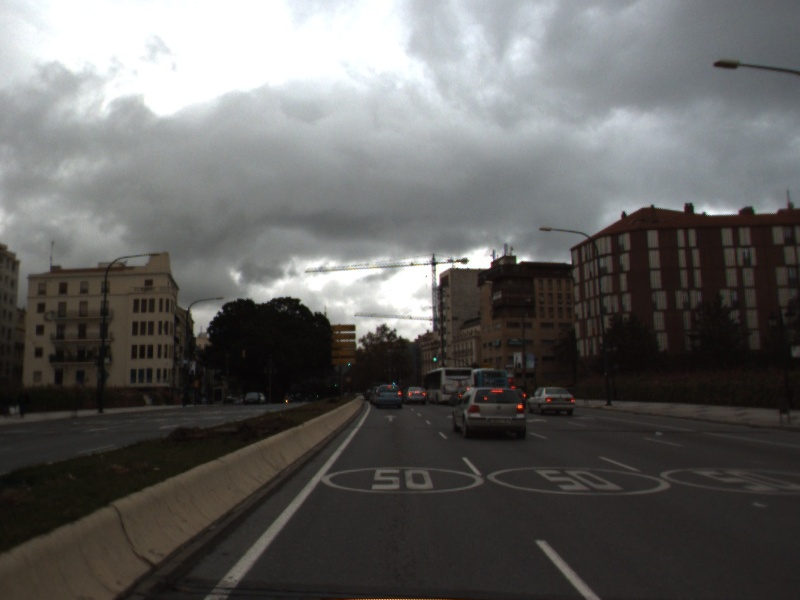STRAIGHT: (381, 412, 401, 424)
